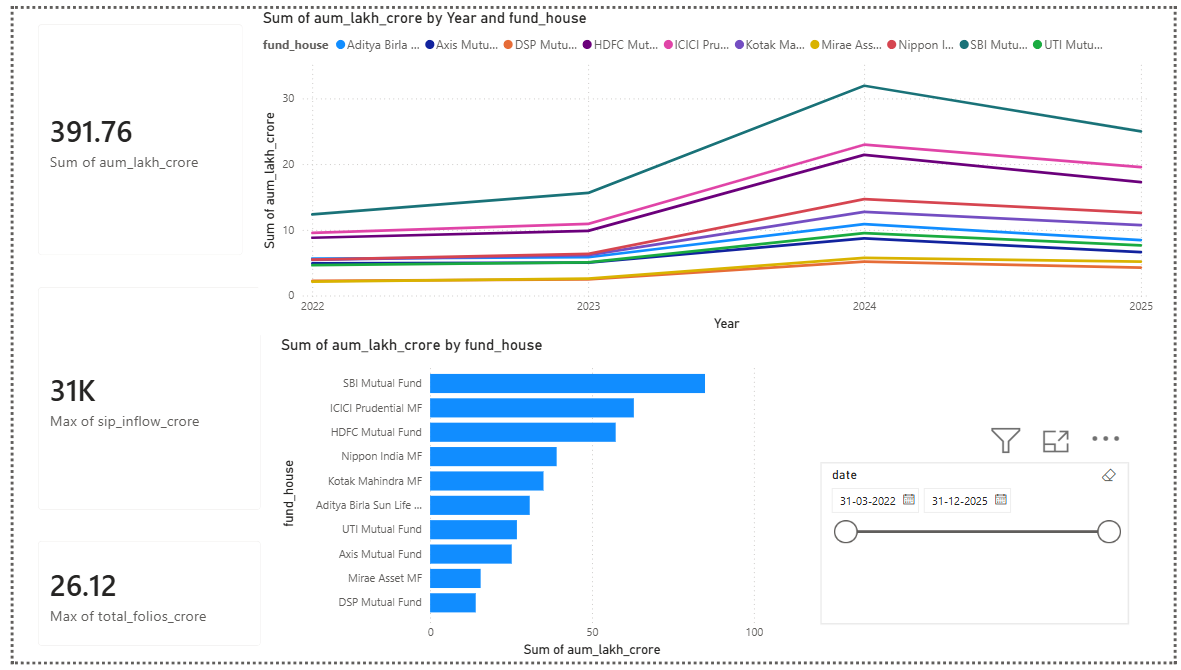

This screenshot's page, from the dashboard's own definition file:
{"tool":"powerbi","page":{"name":"Industry Overview","canvas":[1280,720],"ordinal":0},"visuals":[{"type":"cardVisual","fields":{"Data":["Sum(clean_aum.aum_lakh_crore)"]},"box":[9.6,0,260.7,289.5],"z":0},{"type":"cardVisual","fields":{"Data":["Max(clean_sip.sip_inflow_crore)"]},"box":[10,290,280,280],"z":1},{"type":"cardVisual","fields":{"Data":["Max(clean_folio_count.total_folios_crore)"]},"box":[10,570,280,150],"z":2},{"type":"lineChart","fields":{"Category":["clean_aum.date.Variation.Date Hierarchy.Year","clean_aum.date.Variation.Date Hierarchy.Quarter","clean_aum.date.Variation.Date Hierarchy.Month","clean_aum.date.Variation.Date Hierarchy.Day"],"Y":["Sum(clean_aum.aum_lakh_crore)"],"Series":["clean_aum.fund_house"]},"box":[270,0,992,360],"z":3},{"type":"clusteredBarChart","fields":{"Category":["clean_aum.fund_house"],"Y":["Sum(clean_aum.aum_lakh_crore)"]},"box":[290,360,542,360],"z":4},{"type":"slicer","fields":{"Values":["clean_aum.date"]},"box":[890,500,340,180],"z":5}]}

Visuals, with their boxes in screenshot pixels (x1, y1, x2, y2), scaled from the page's 1280x720 canvas onto the 1181x670 screenshot:
cardVisual - Sum(clean_aum.aum_lakh_crore): {"x1": 9, "y1": 0, "x2": 249, "y2": 269}
cardVisual - Max(clean_sip.sip_inflow_crore): {"x1": 9, "y1": 270, "x2": 268, "y2": 530}
cardVisual - Max(clean_folio_count.total_folios_crore): {"x1": 9, "y1": 530, "x2": 268, "y2": 669}
lineChart - clean_aum.date.Variation.Date Hierarchy.Year x clean_aum.date.Variation.Date Hierarchy.Quarter: {"x1": 249, "y1": 0, "x2": 1164, "y2": 335}
clusteredBarChart - clean_aum.fund_house x Sum(clean_aum.aum_lakh_crore): {"x1": 268, "y1": 335, "x2": 768, "y2": 669}
slicer - clean_aum.date: {"x1": 821, "y1": 465, "x2": 1135, "y2": 633}
